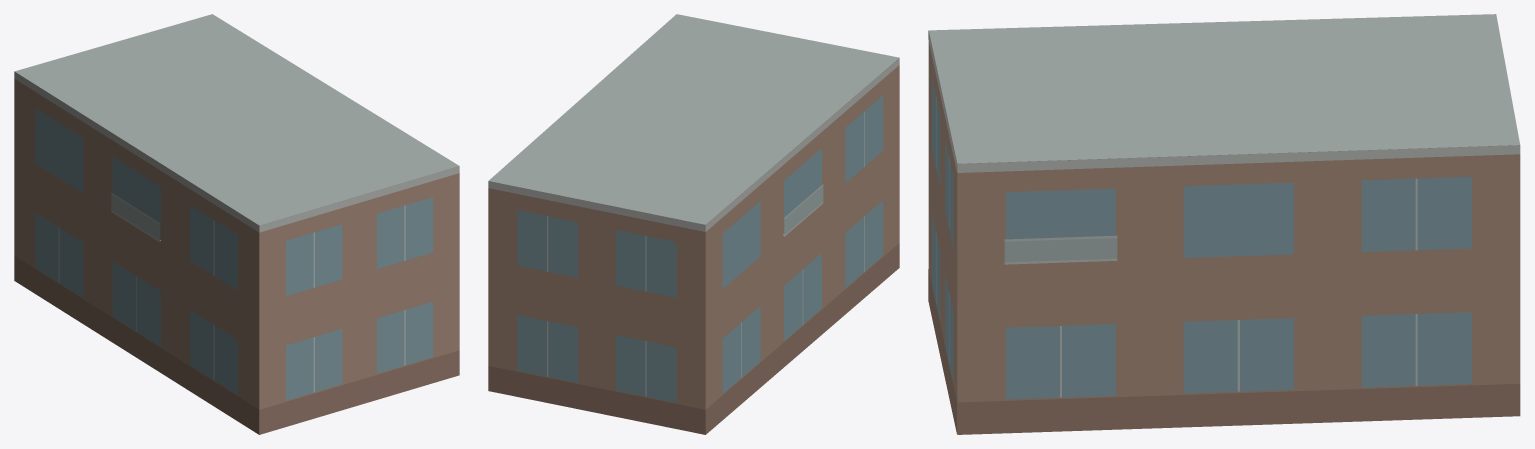
Rendered from survey-upis-32747157.glb.
The picture shows the model from 3 angles, left to right: view 1: azimuth 30°, elevation 25°; view 2: azimuth 150°, elevation 25°; view 3: azimuth 270°, elevation 25°; orthographic projection. The views are drawn at different scales.
Parts seen in each view (by area): view 1: survey-upis-32747157.tmp; view 2: survey-upis-32747157.tmp; view 3: survey-upis-32747157.tmp.
Boxes of the visible parts, x1,y1,x2,y2 form: survey-upis-32747157.tmp: (14,14,459,434); survey-upis-32747157.tmp: (488,14,899,434); survey-upis-32747157.tmp: (928,14,1520,434).
Bounding box in the file's own units: 8.48 × 7.15 × 14.15.
